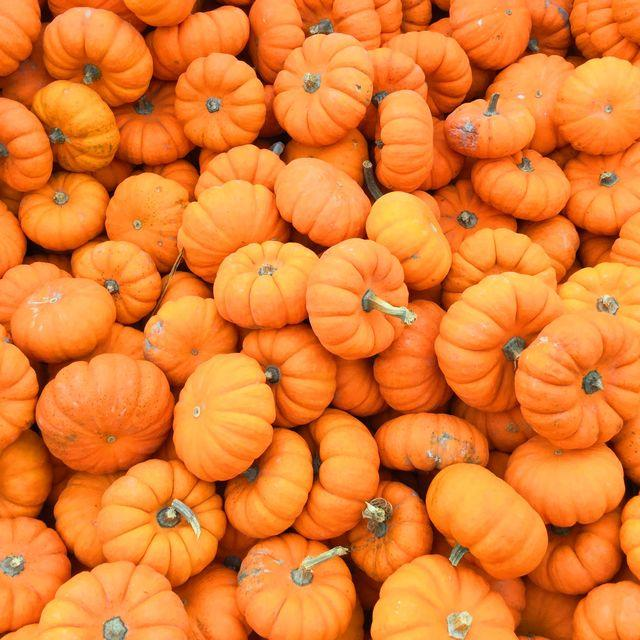pumpkin: (435, 275, 564, 412), (515, 311, 640, 448), (36, 354, 174, 473), (98, 459, 226, 585), (426, 466, 548, 578), (306, 239, 416, 359), (174, 352, 276, 481), (236, 534, 356, 640), (371, 555, 516, 640), (40, 561, 189, 640), (178, 180, 290, 282), (274, 32, 374, 146), (294, 409, 380, 539), (504, 435, 625, 527), (44, 8, 152, 106), (242, 324, 335, 427), (225, 429, 312, 538), (442, 228, 556, 308), (214, 242, 319, 328), (10, 278, 116, 363), (175, 52, 265, 152), (486, 54, 575, 154), (374, 300, 452, 412), (554, 56, 640, 155), (275, 158, 371, 246), (145, 296, 238, 386), (349, 481, 432, 581), (366, 192, 451, 289), (108, 172, 189, 272), (32, 80, 120, 172), (0, 519, 71, 633), (529, 511, 622, 594), (146, 6, 249, 80), (71, 240, 161, 324), (384, 31, 471, 116), (471, 149, 571, 221), (19, 171, 109, 251), (564, 142, 640, 234), (112, 79, 194, 164), (375, 412, 489, 471), (54, 472, 121, 567), (359, 48, 428, 139), (434, 179, 516, 252), (445, 92, 535, 158), (174, 562, 250, 640), (375, 90, 432, 192), (559, 262, 640, 329), (0, 261, 71, 329), (0, 98, 51, 192), (1, 325, 39, 449), (195, 144, 285, 196), (249, 0, 305, 83), (285, 129, 369, 184), (0, 430, 52, 517), (451, 399, 535, 452), (570, 0, 640, 63), (0, 28, 54, 108), (295, 0, 381, 49), (519, 215, 580, 282), (572, 584, 640, 640), (518, 580, 581, 640), (420, 118, 465, 190), (48, 0, 146, 32), (332, 358, 386, 416), (0, 0, 40, 76), (527, 0, 572, 56), (144, 159, 199, 199), (88, 322, 144, 359), (612, 414, 640, 484), (1, 201, 26, 277), (124, 0, 196, 26), (610, 211, 640, 267), (620, 495, 640, 579), (491, 578, 526, 626), (162, 271, 212, 304), (91, 159, 134, 192), (374, 0, 401, 43), (336, 600, 364, 639), (580, 238, 616, 267), (401, 0, 432, 32), (0, 624, 41, 639)
